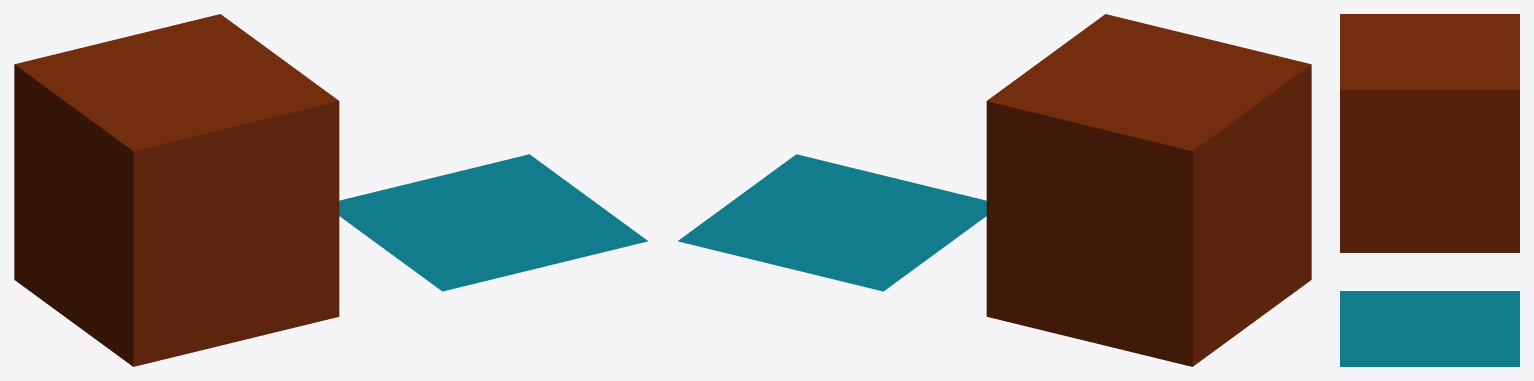
The model's file is export.palette.fbx.
3 views of the same model, side by side, from view 1: azimuth 30°, elevation 25°; view 2: azimuth 150°, elevation 25°; view 3: azimuth 270°, elevation 25° (orthographic). The views are drawn at different scales.
Parts seen in each view (by area): view 1: VW.red.001, VW.blue.001; view 2: VW.red.001, VW.blue.001; view 3: VW.red.001, VW.blue.001.
Part boxes in pixels (x1,y1,x2,y2): VW.red.001: [14, 14, 339, 366]; VW.blue.001: [339, 154, 647, 291]; VW.red.001: [986, 14, 1311, 366]; VW.blue.001: [678, 154, 986, 291]; VW.red.001: [1340, 14, 1519, 252]; VW.blue.001: [1340, 291, 1519, 366].
Size of the model in its own units: 250 by 100 by 100.
2 materials, 2 textured.
